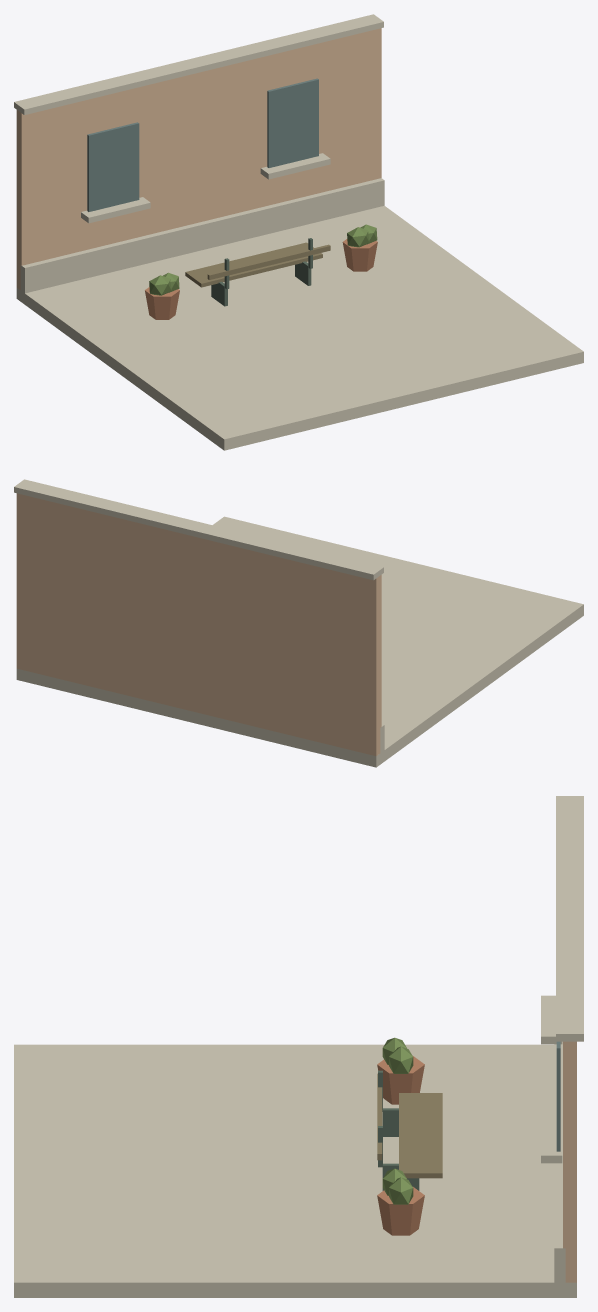
The model's file is district-1-0-2.glb.
3 renders of one model, top to bottom at view 1: azimuth 30°, elevation 25°; view 2: azimuth 150°, elevation 25°; view 3: azimuth 270°, elevation 25°, orthographic. The views are drawn at different scales.
Parts seen in each view (by area): view 1: stone.019, plaster.017, glass.007, wood.008, clay.004, leaf.006, metal.006; view 2: plaster.017, stone.019; view 3: stone.019, wood.008, plaster.017, clay.004, leaf.006, metal.006.
Part boxes in pixels (bbox=[...]): stone.019: bbox=[14, 14, 583, 450]; plaster.017: bbox=[16, 28, 381, 289]; glass.007: bbox=[87, 78, 318, 211]; wood.008: bbox=[185, 242, 330, 287]; clay.004: bbox=[145, 239, 377, 319]; leaf.006: bbox=[149, 224, 377, 295]; metal.006: bbox=[211, 238, 312, 306]; plaster.017: bbox=[16, 493, 381, 756]; stone.019: bbox=[14, 479, 583, 767]; stone.019: bbox=[14, 796, 583, 1297]; wood.008: bbox=[377, 1073, 442, 1178]; plaster.017: bbox=[563, 1041, 576, 1282]; clay.004: bbox=[377, 1056, 424, 1235]; leaf.006: bbox=[382, 1037, 413, 1204]; metal.006: bbox=[378, 1070, 419, 1190].
Bounding box in the file's own units: 8 × 4.14 × 8.1.
